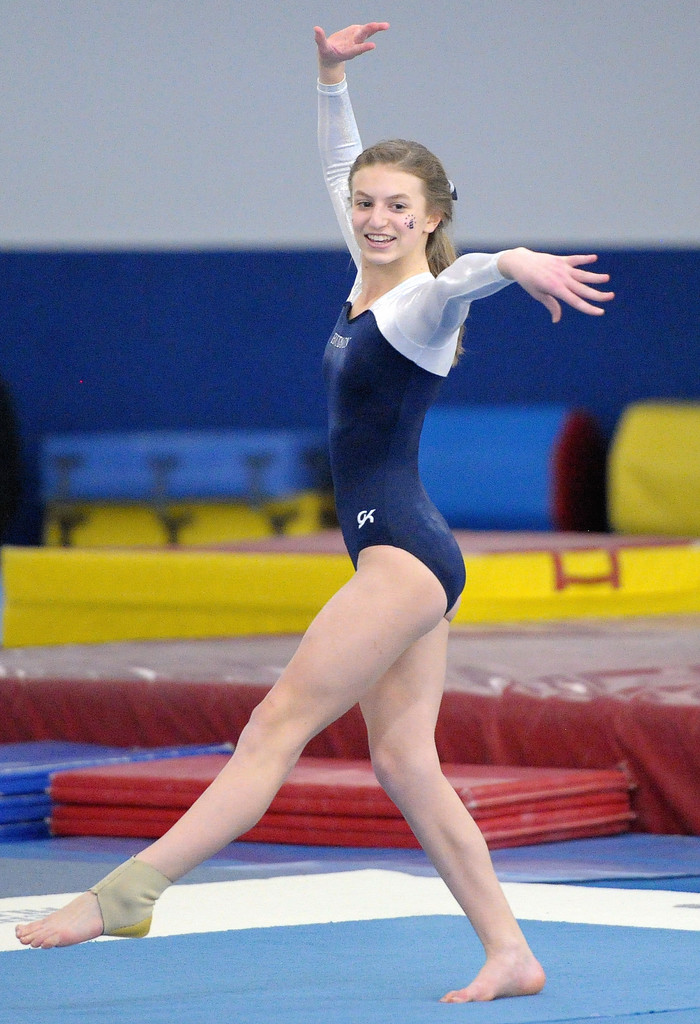Person: (14, 21, 614, 1003)
